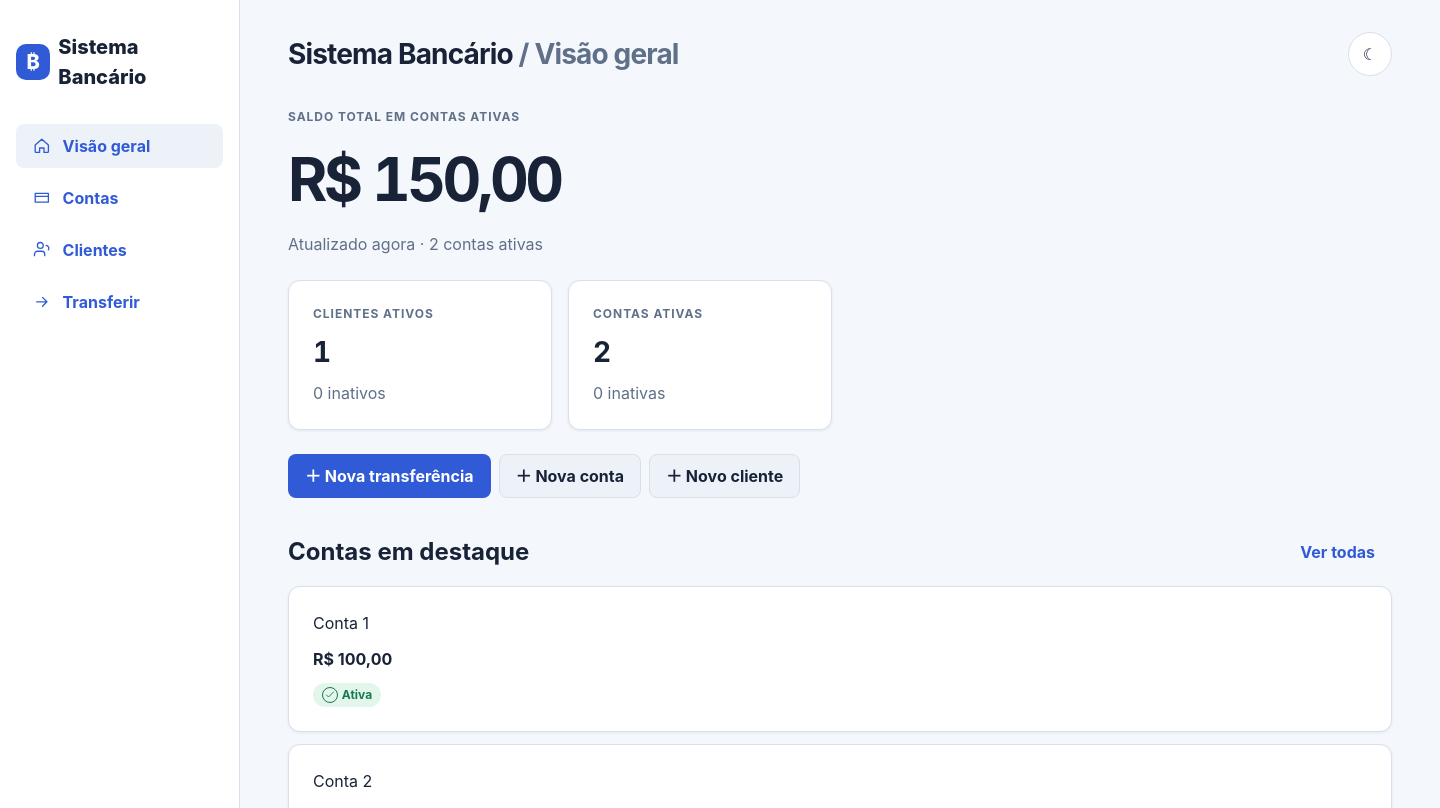
Scenario: Sistema Bancário › exibe a mensagem de erro valor_invalido da API
This screenshot has width=1440, height=808.
Click the button "Transferir" at (120, 302), box [16,280,223,324]
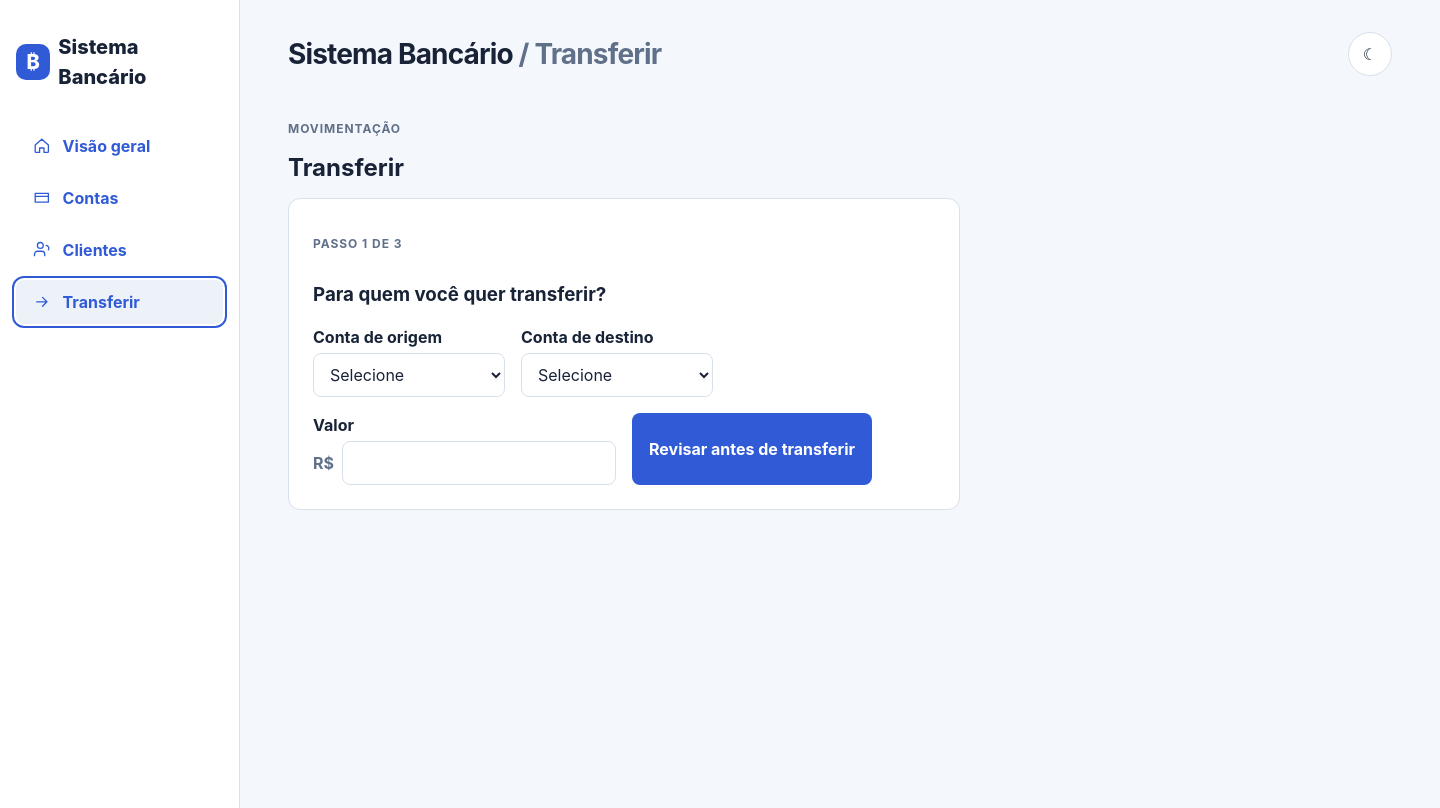
Select "Conta 1 · R$ 100,00" in the dropdown labelled "Conta de origem" at (409, 375), box [313,353,505,397]
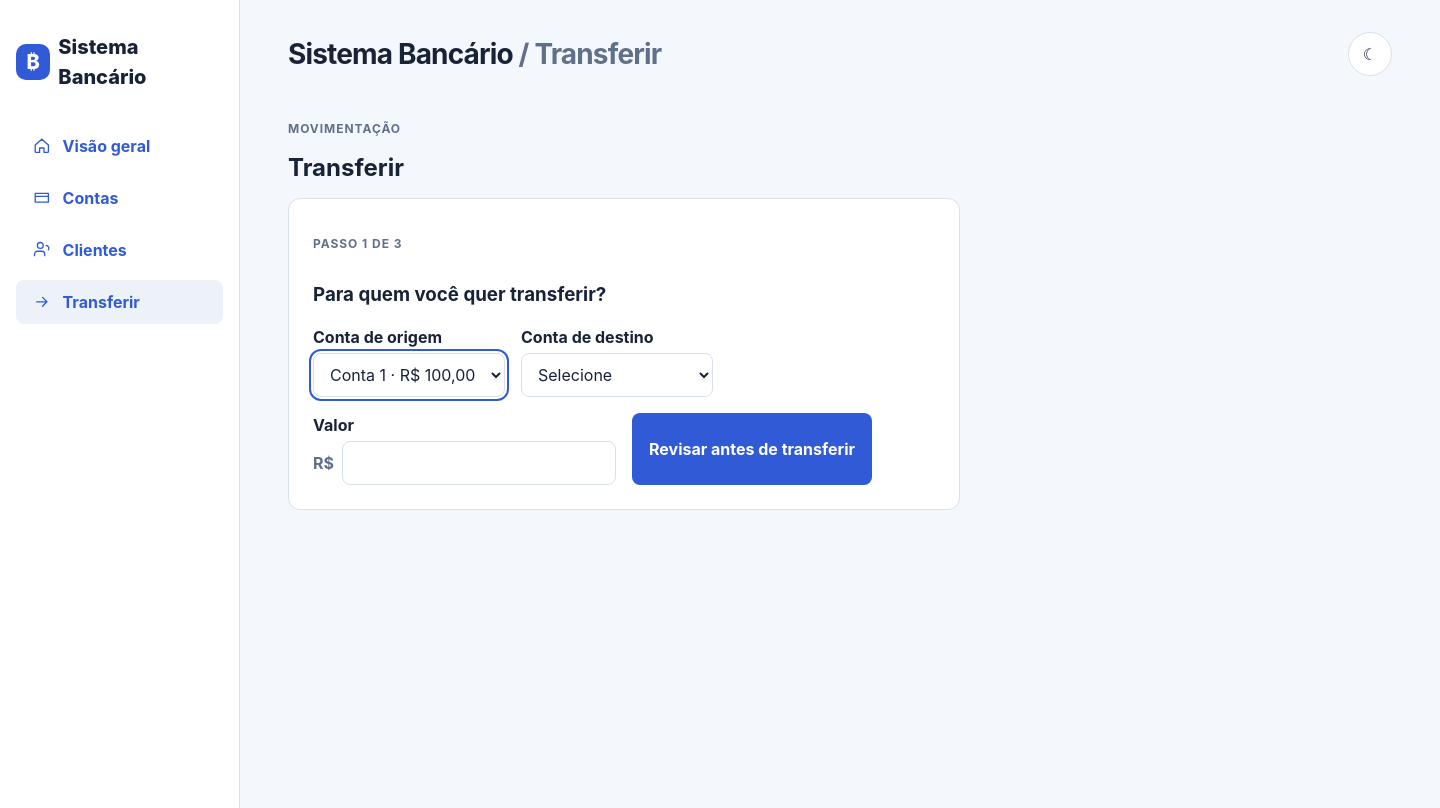
Select "Conta 2 · R$ 50,00" in the dropdown labelled "Conta de destino" at (617, 375), box [521,353,713,397]
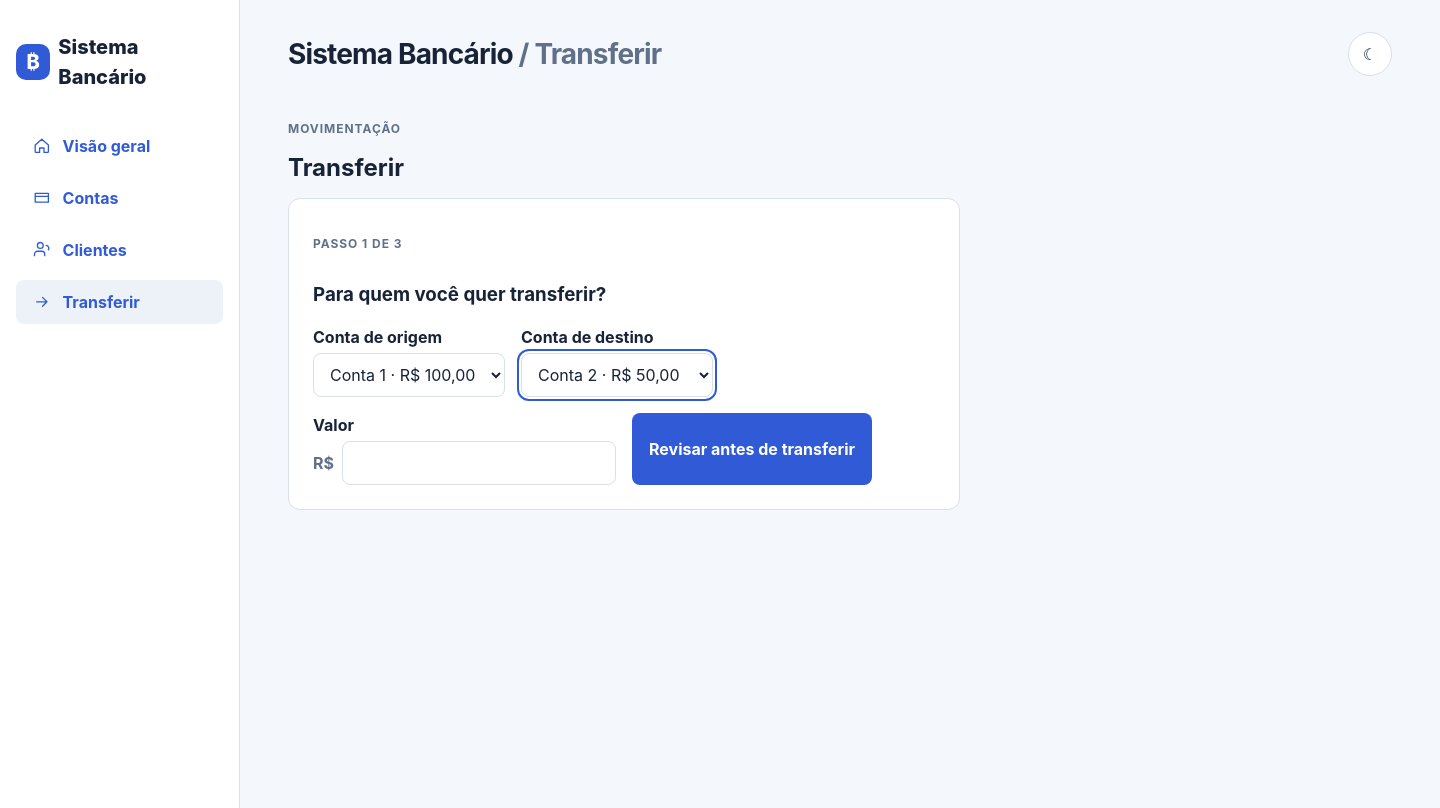
Type "10" into the number field labelled "Valor" at (479, 463), box [342,441,616,485]
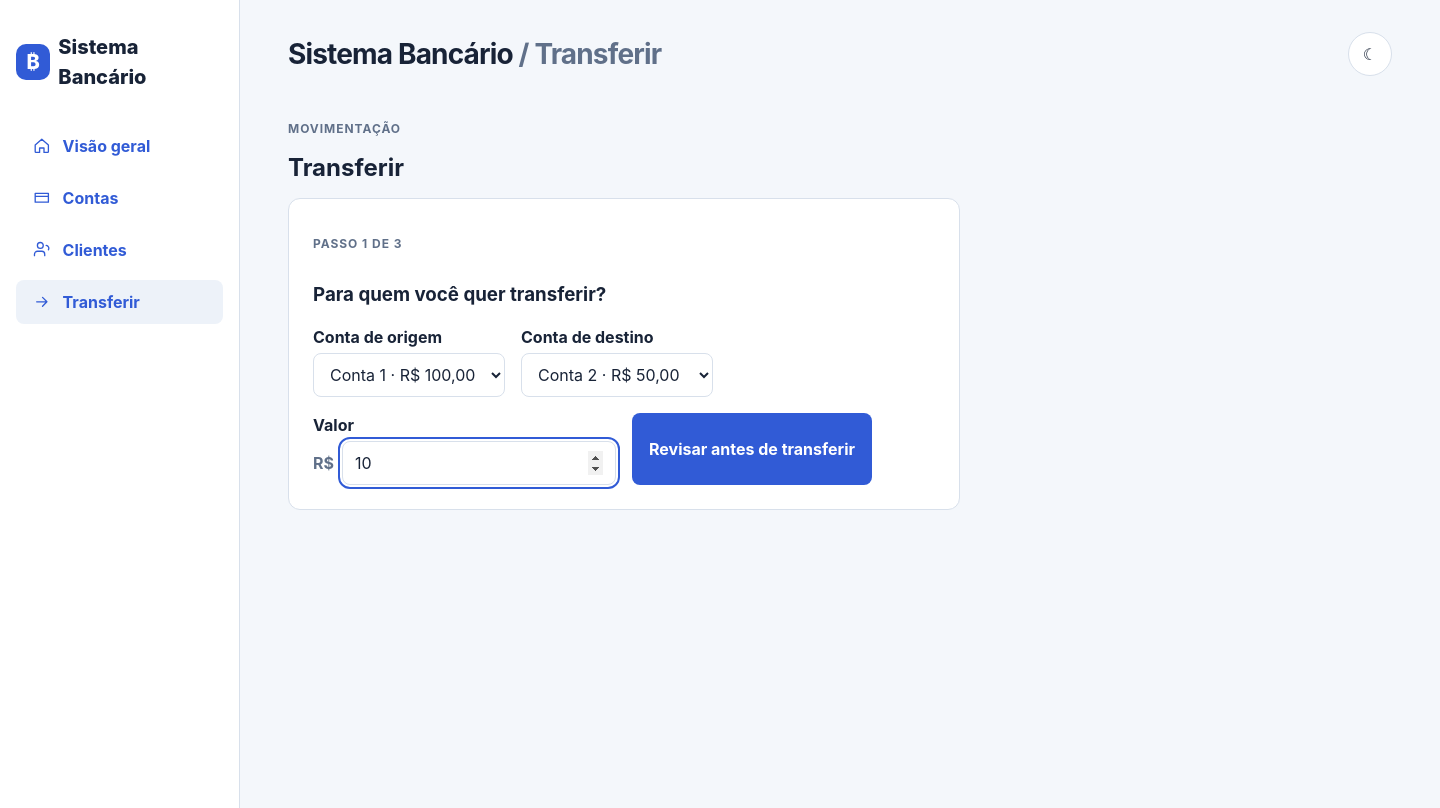
Click the button "Revisar antes de transferir" at (752, 449), box [632,413,872,485]
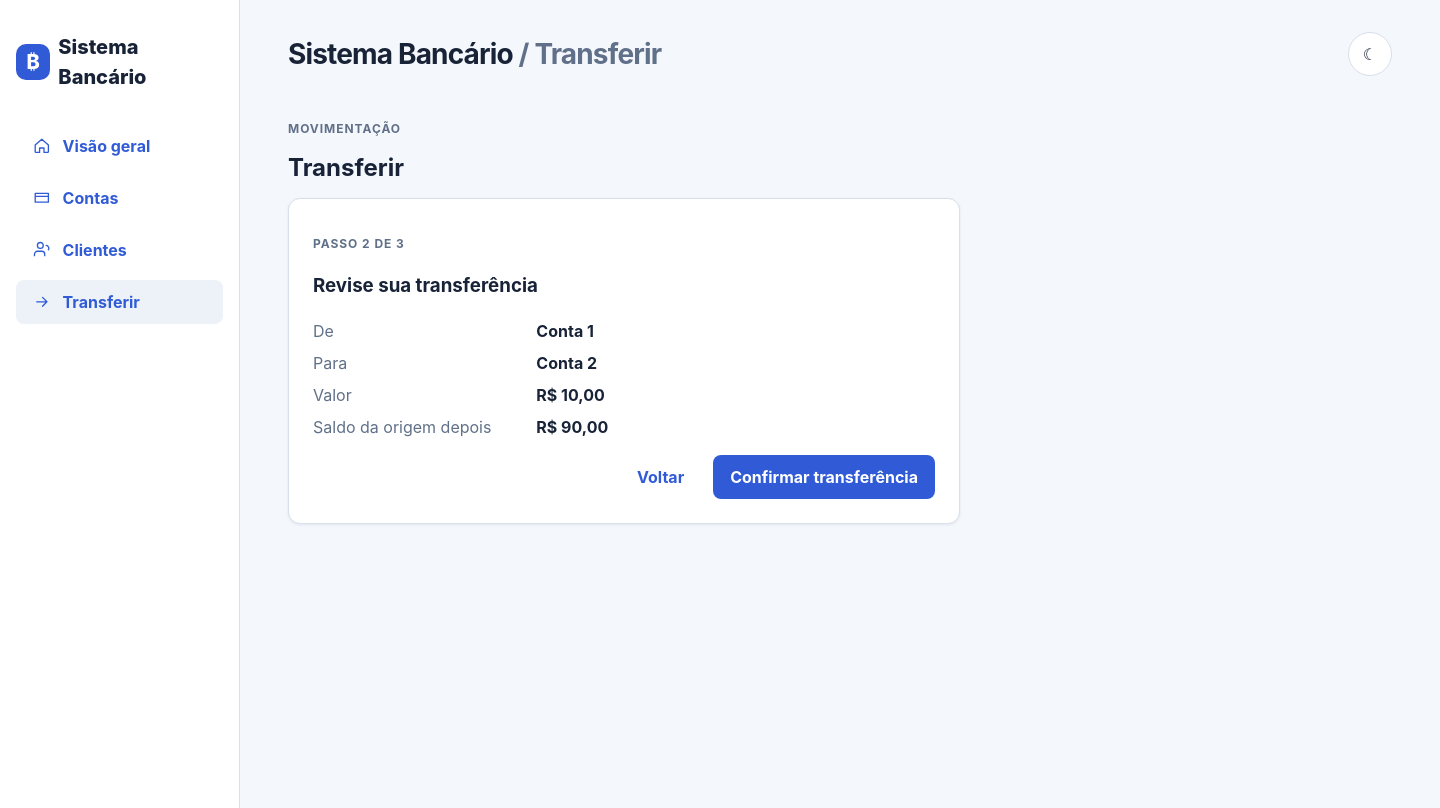
Click the button "Confirmar transferência" at (824, 476), box [713,454,935,498]
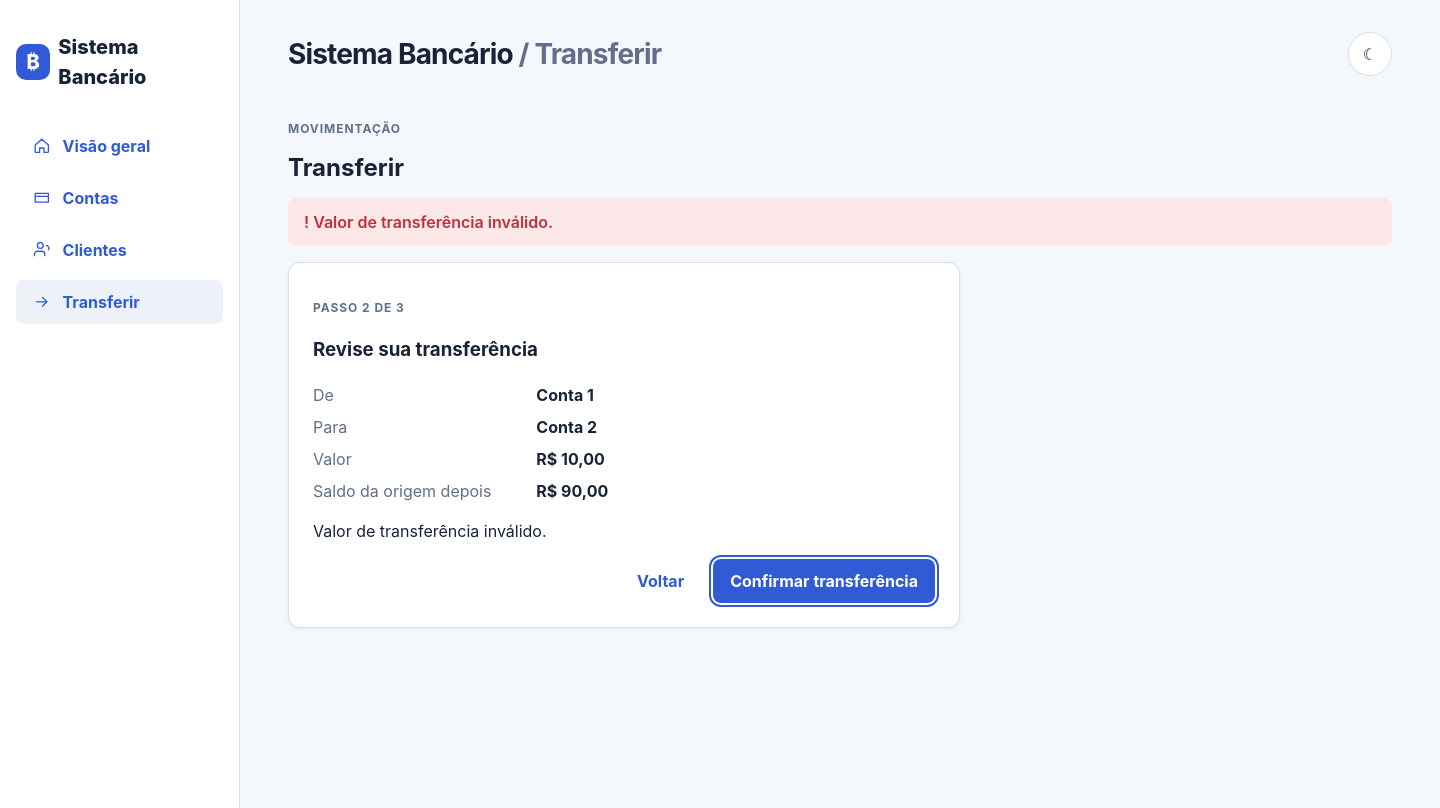
Expected: the message "! Valor de transferência inválido." is shown, [288,198,1392,246]
